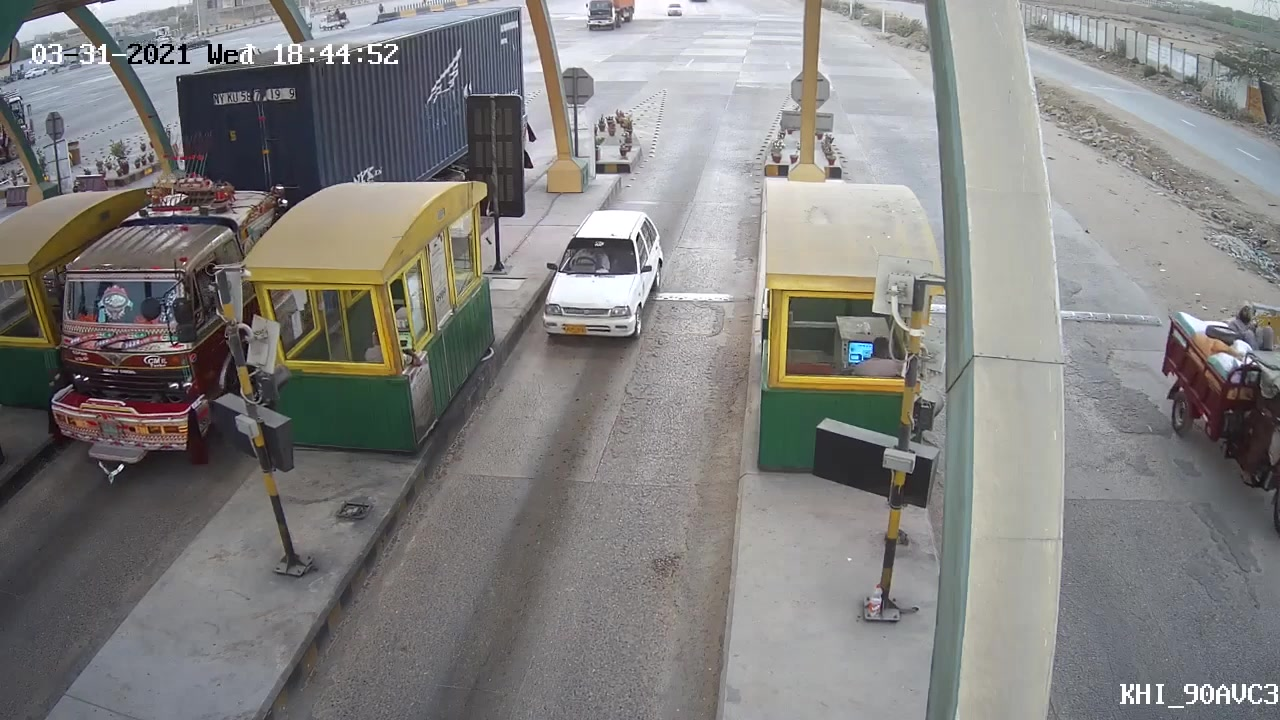F1: (535, 205, 671, 356)
